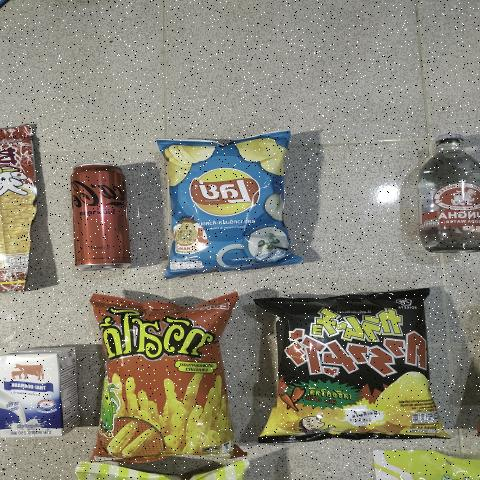coke_red: (65, 164, 134, 274)
karamujo: (272, 298, 432, 438)
lay_blue: (167, 134, 291, 268)
singha_soda: (414, 130, 480, 256)
thai_denmark: (0, 347, 83, 440)
twisco: (100, 300, 216, 452)
